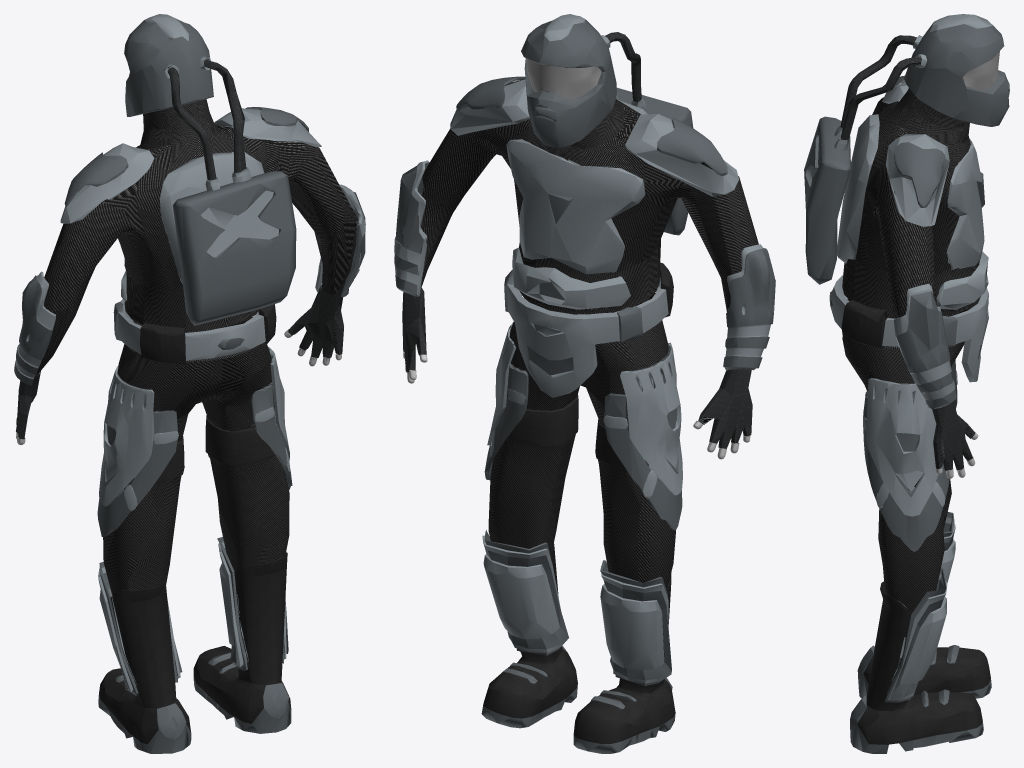
Rendered from andar.0001.obj.
3 renders of one model, left to right at view 1: azimuth 30°, elevation 25°; view 2: azimuth 150°, elevation 25°; view 3: azimuth 270°, elevation 25°, orthographic. The views are drawn at different scales.
Parts seen in each view (by area): view 1: personaje:CAMISETABUENA polySurface1, personaje:extrudedSurface2 polySurface1, personaje:PANTALON polySurface1, personaje:bota1 polySurface1, personaje:pPipe4 polySurface1, personaje:pCube4 polySurface1, personaje:cosoarmdaurapierna1 polySurface1, personaje:cinturon polySurface1, personaje:polySurface6 polySurface1, personaje:armadbota1 polySurface1, personaje:polySurface2 polySurface1, personaje:cosoarmadurapierna2 polySurface1 (+5 smaller); view 2: personaje:pPipe4 polySurface1, personaje:CAMISETABUENA polySurface1, personaje:PANTALON polySurface1, personaje:bota1 polySurface1, personaje:armadbota1 polySurface1, personaje:extrudedSurface2 polySurface1, personaje:cinturon polySurface1, personaje:pCube4 polySurface1, personaje:cosoarmdaurapierna1 polySurface1, personaje:polySurface2 polySurface1, personaje:polySurface6 polySurface1, personaje:gafas polySurface1 (+6 smaller); view 3: personaje:pPipe4 polySurface1, personaje:extrudedSurface2 polySurface1, personaje:CAMISETABUENA polySurface1, personaje:bota1 polySurface1, personaje:pCube4 polySurface1, personaje:PANTALON polySurface1, personaje:cinturon polySurface1, personaje:cosoarmadurapierna2 polySurface1, personaje:armadbota1 polySurface1, personaje:hombro1 polySurface1, personaje:partearmdBRAZO2 polySurface1, personaje:polySurface11 polySurface1 (+1 smaller).
Part boxes in pixels (<box>): personaje:CAMISETABUENA polySurface1: <box>36,99,358,374</box>; personaje:extrudedSurface2 polySurface1: <box>124,14,296,325</box>; personaje:PANTALON polySurface1: <box>103,316,289,595</box>; personaje:bota1 polySurface1: <box>98,552,291,753</box>; personaje:pPipe4 polySurface1: <box>16,108,365,439</box>; personaje:pCube4 polySurface1: <box>97,347,290,695</box>; personaje:cosoarmdaurapierna1 polySurface1: <box>99,365,178,510</box>; personaje:cinturon polySurface1: <box>113,278,276,363</box>; personaje:polySurface6 polySurface1: <box>155,415,275,483</box>; personaje:armadbota1 polySurface1: <box>98,542,286,692</box>; personaje:polySurface2 polySurface1: <box>14,275,52,385</box>; personaje:cosoarmadurapierna2 polySurface1: <box>238,382,292,489</box>; personaje:pPipe4 polySurface1: <box>394,79,752,448</box>; personaje:CAMISETABUENA polySurface1: <box>420,67,758,337</box>; personaje:PANTALON polySurface1: <box>488,276,675,589</box>; personaje:bota1 polySurface1: <box>481,543,675,753</box>; personaje:armadbota1 polySurface1: <box>482,535,669,683</box>; personaje:extrudedSurface2 polySurface1: <box>521,14,693,235</box>; personaje:cinturon polySurface1: <box>504,262,673,397</box>; personaje:pCube4 polySurface1: <box>483,322,682,685</box>; personaje:cosoarmdaurapierna1 polySurface1: <box>603,342,682,498</box>; personaje:polySurface2 polySurface1: <box>723,248,775,368</box>; personaje:polySurface6 polySurface1: <box>507,394,625,469</box>; personaje:gafas polySurface1: <box>526,58,601,99</box>; personaje:pPipe4 polySurface1: <box>837,82,988,470</box>; personaje:extrudedSurface2 polySurface1: <box>804,14,1009,284</box>; personaje:CAMISETABUENA polySurface1: <box>842,88,980,349</box>; personaje:bota1 polySurface1: <box>850,581,991,753</box>; personaje:pCube4 polySurface1: <box>863,360,957,702</box>; personaje:PANTALON polySurface1: <box>842,292,973,637</box>; personaje:cinturon polySurface1: <box>829,269,988,382</box>; personaje:cosoarmadurapierna2 polySurface1: <box>863,386,949,551</box>; personaje:armadbota1 polySurface1: <box>887,517,955,700</box>; personaje:hombro1 polySurface1: <box>894,142,945,207</box>; personaje:partearmdBRAZO2 polySurface1: <box>893,284,957,408</box>; personaje:polySurface11 polySurface1: <box>840,35,916,128</box>.
Size of the model in its own units: 5.08 by 9.62 by 2.57.
